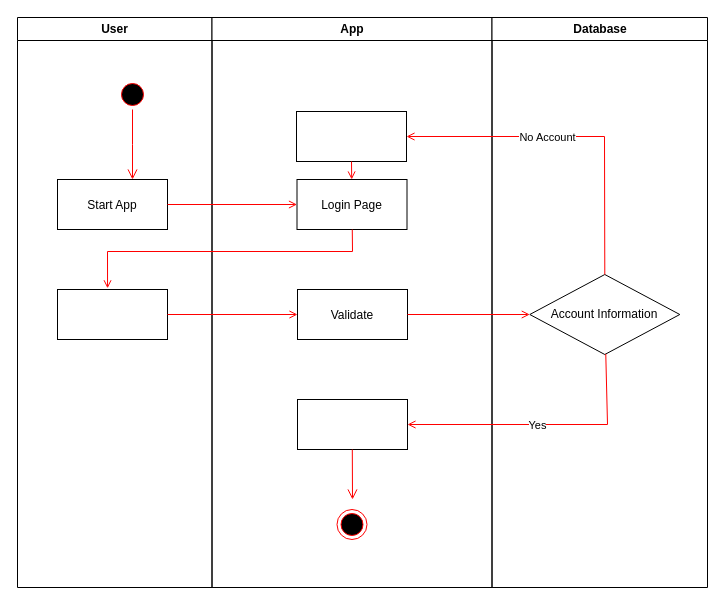
Image size: 725x605. Some labels were removed from this diagram. The centre of each missing label's shape, as x and y in pixels:
Home Menu's Recipe: the point at 352,424
Input Username Password: the point at 112,314
Register Page: the point at 351,136
